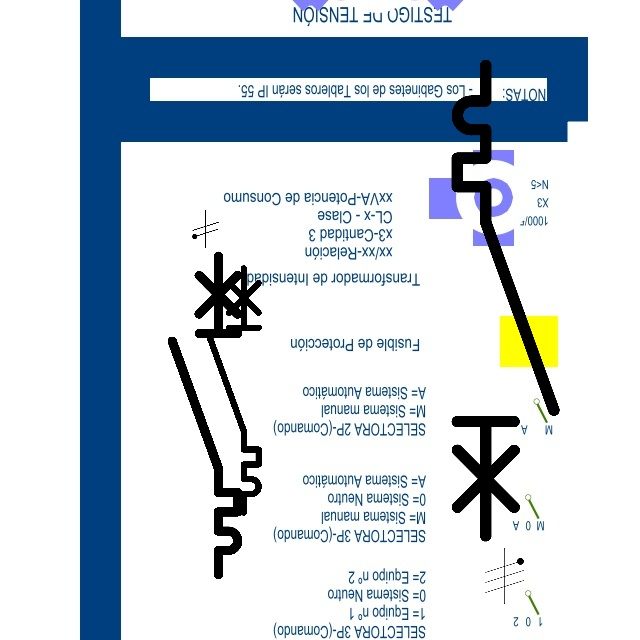interruptor_termomagnetico: (445, 53, 566, 548), (164, 247, 246, 582), (202, 262, 265, 519)
